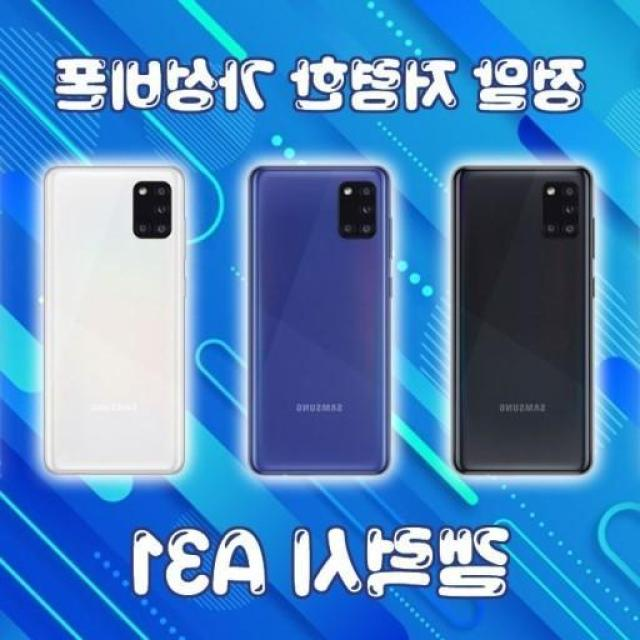mobile: (451, 166, 595, 476), (249, 166, 391, 475), (43, 168, 184, 477)
